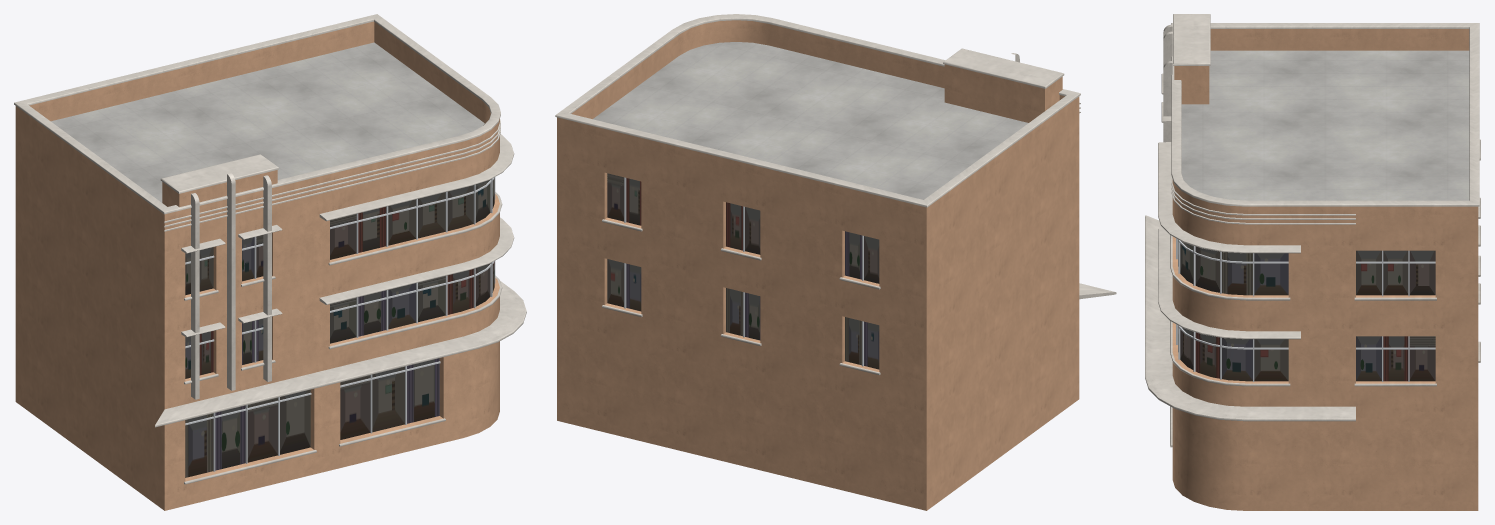
The picture shows the model from 3 angles, left to right: view 1: azimuth 30°, elevation 25°; view 2: azimuth 150°, elevation 25°; view 3: azimuth 270°, elevation 25°; orthographic projection. The views are drawn at different scales.
Parts seen in each view (by area): view 1: bg_1_mesh; view 2: bg_1_mesh; view 3: bg_1_mesh.
Part boxes in pixels (box(x1,y1,x2,y2)): bg_1_mesh: box(14, 14, 526, 510); bg_1_mesh: box(555, 14, 1116, 510); bg_1_mesh: box(1145, 14, 1480, 510).
Size of the model in its own units: 15.8 by 11.9 by 10.98.
5 materials, 4 textured.
